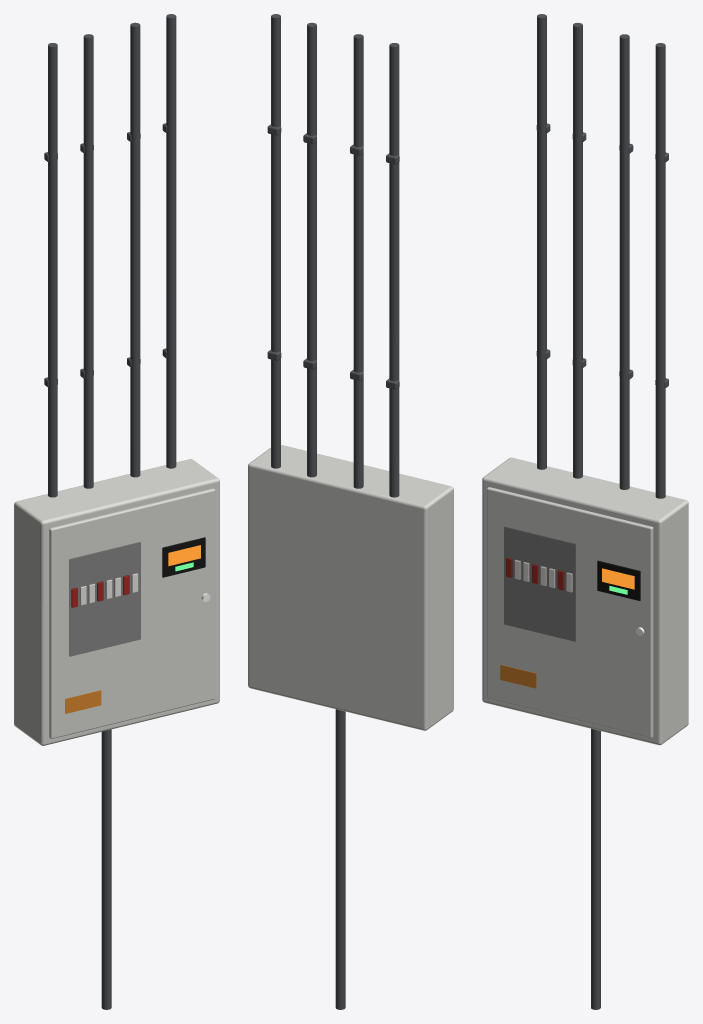
Rendered from control_panel.glb.
3 views of the same model, side by side, from view 1: azimuth 30°, elevation 25°; view 2: azimuth 150°, elevation 25°; view 3: azimuth 330°, elevation 25° (orthographic).
Parts seen in each view (by area): view 1: control_panel__steel_white, control_panel__plastic_grey, control_panel__acrylic_smoke, control_panel__plastic_black, control_panel__plastic_white, control_panel__label_amber; view 2: control_panel__steel_white, control_panel__plastic_grey; view 3: control_panel__steel_white, control_panel__plastic_grey, control_panel__acrylic_smoke, control_panel__plastic_black, control_panel__plastic_white, control_panel__label_amber.
Boxes of the visible parts, <box> form: control_panel__steel_white: <box>14,459,219,745</box>; control_panel__plastic_grey: <box>44,14,176,1009</box>; control_panel__acrylic_smoke: <box>69,542,140,656</box>; control_panel__plastic_black: <box>162,537,205,577</box>; control_panel__plastic_white: <box>80,573,138,605</box>; control_panel__label_amber: <box>65,690,101,713</box>; control_panel__steel_white: <box>248,445,453,730</box>; control_panel__plastic_grey: <box>267,14,399,1009</box>; control_panel__steel_white: <box>482,457,688,745</box>; control_panel__plastic_grey: <box>536,14,668,1009</box>; control_panel__acrylic_smoke: <box>504,526,575,641</box>; control_panel__plastic_black: <box>597,560,640,600</box>; control_panel__plastic_white: <box>514,560,572,592</box>; control_panel__label_amber: <box>500,664,536,688</box>.
Size of the model in its own units: 0.5 by 2.6 by 0.157.
